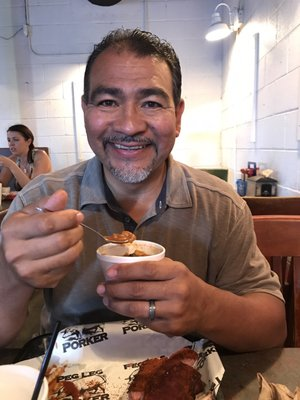pizza: (96, 239, 166, 322)
